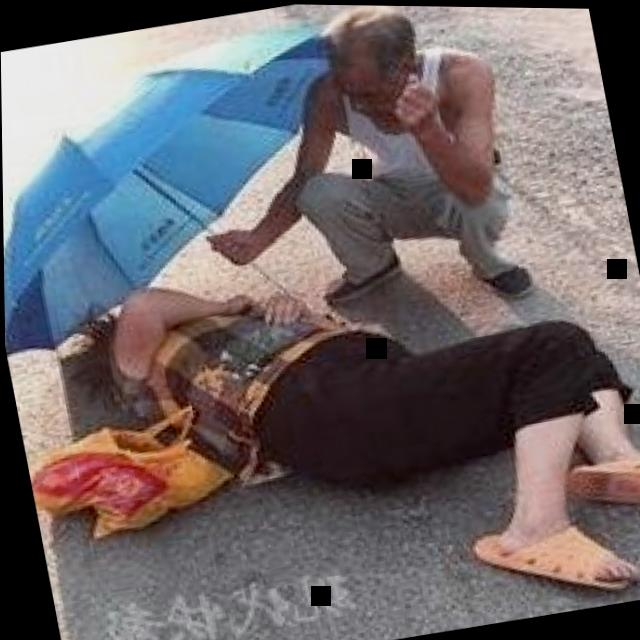Fall-Detected: (14, 179, 640, 640)
